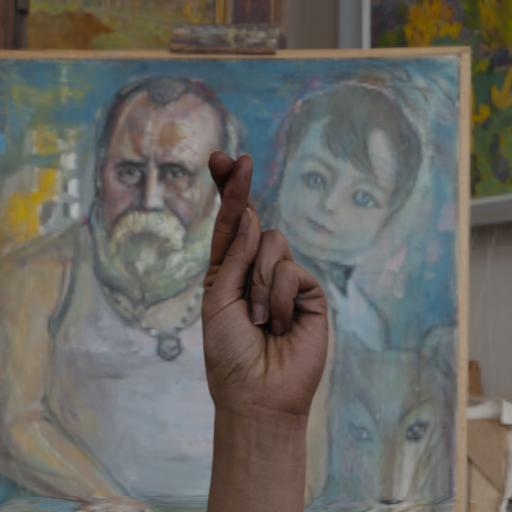R: (197, 144, 332, 424)
